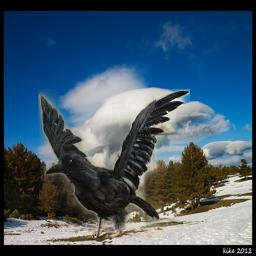Crow: (38, 89, 190, 238)
